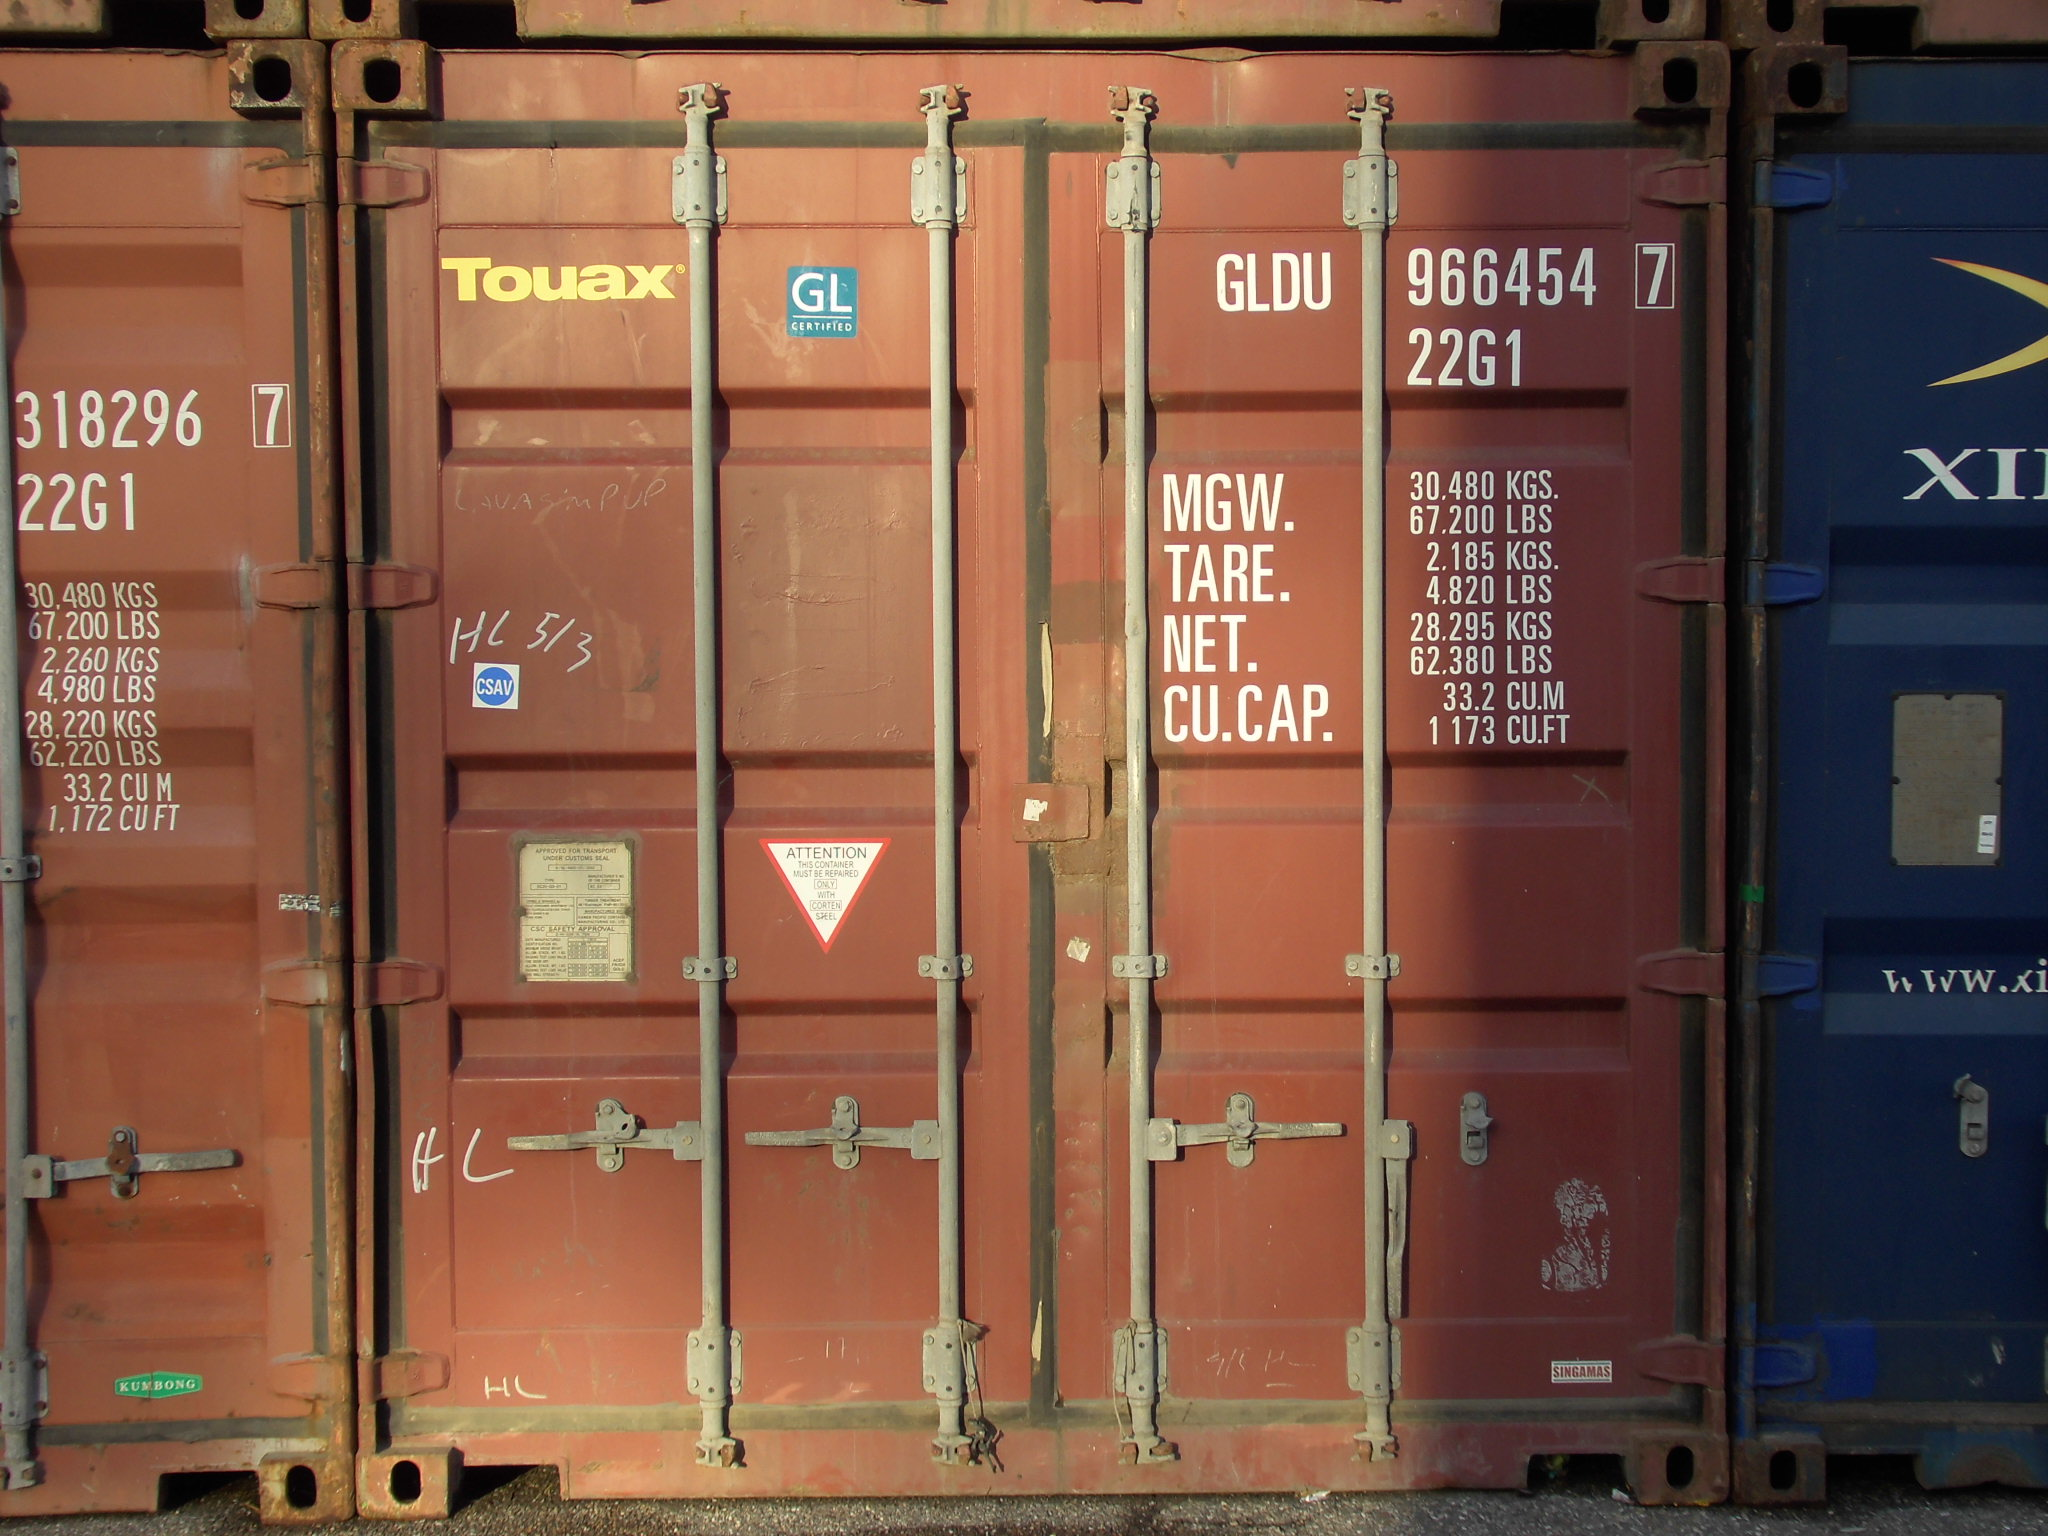container_door: (327, 34, 1730, 1512)
